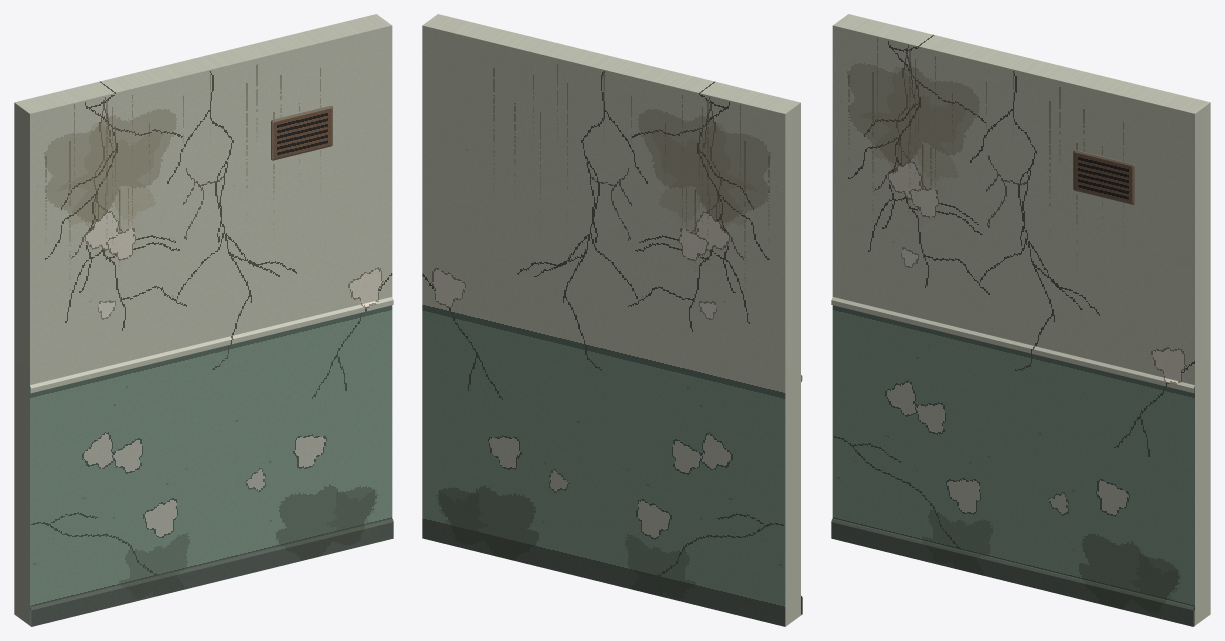
File: wall_4b.glb
3 views of the same model, side by side, from view 1: azimuth 30°, elevation 25°; view 2: azimuth 150°, elevation 25°; view 3: azimuth 330°, elevation 25° (orthographic).
Parts seen in each view (by area): view 1: wall_body, vent_grille; view 2: wall_body; view 3: wall_body, vent_grille.
Part boxes in pixels (x1,y1,x2,y2): wall_body: (14, 14, 393, 626); vent_grille: (271, 105, 332, 160); wall_body: (422, 14, 802, 626); wall_body: (831, 14, 1210, 626); vent_grille: (1073, 150, 1134, 204).
Bounding box in the file's own units: 2 × 2.7 × 0.1656.
Materials: 1 (1 with a texture image).
